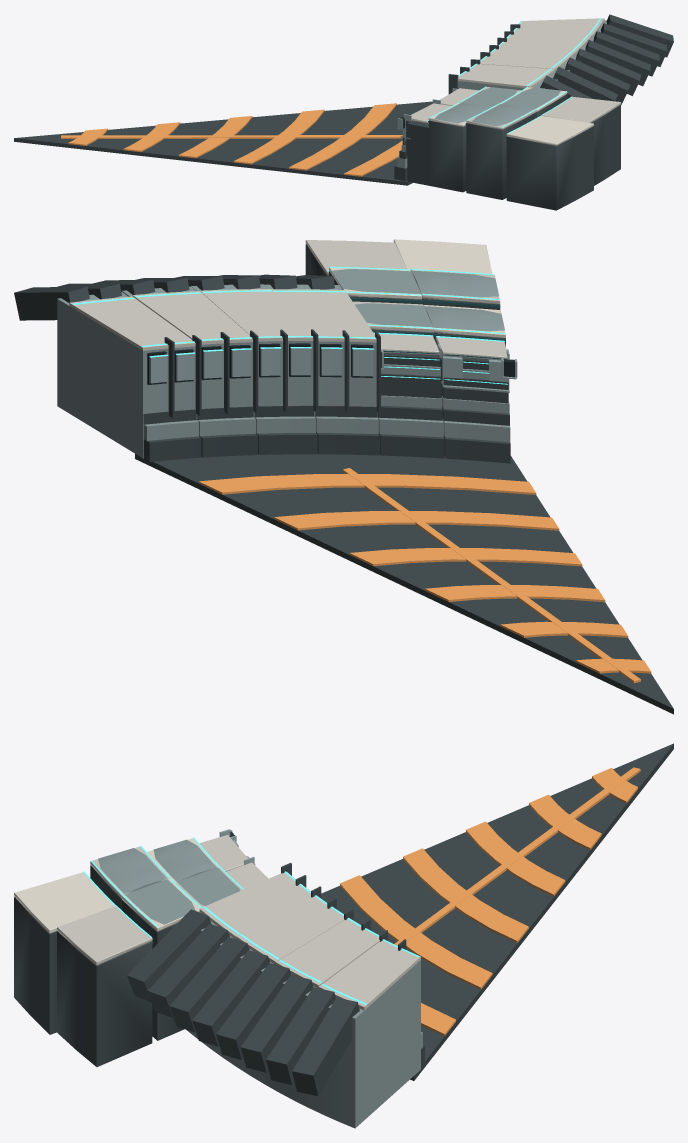
Rendered from Weather_Lung_Sector_10.glb.
3 renders of one model, top to bottom at view 1: azimuth 30°, elevation 25°; view 2: azimuth 150°, elevation 25°; view 3: azimuth 270°, elevation 25°, orthographic. The views are drawn at different scales.
Visible parts, largest first — view 1: Weather_Lung_Sector_10; view 2: Weather_Lung_Sector_10; view 3: Weather_Lung_Sector_10.
Part boxes in pixels (box(x1,y1,x2,y2)): Weather_Lung_Sector_10: box(14, 14, 673, 210); Weather_Lung_Sector_10: box(14, 239, 673, 714); Weather_Lung_Sector_10: box(14, 743, 673, 1128).
Size of the model in its own units: 10817 by 1548 by 7235.
